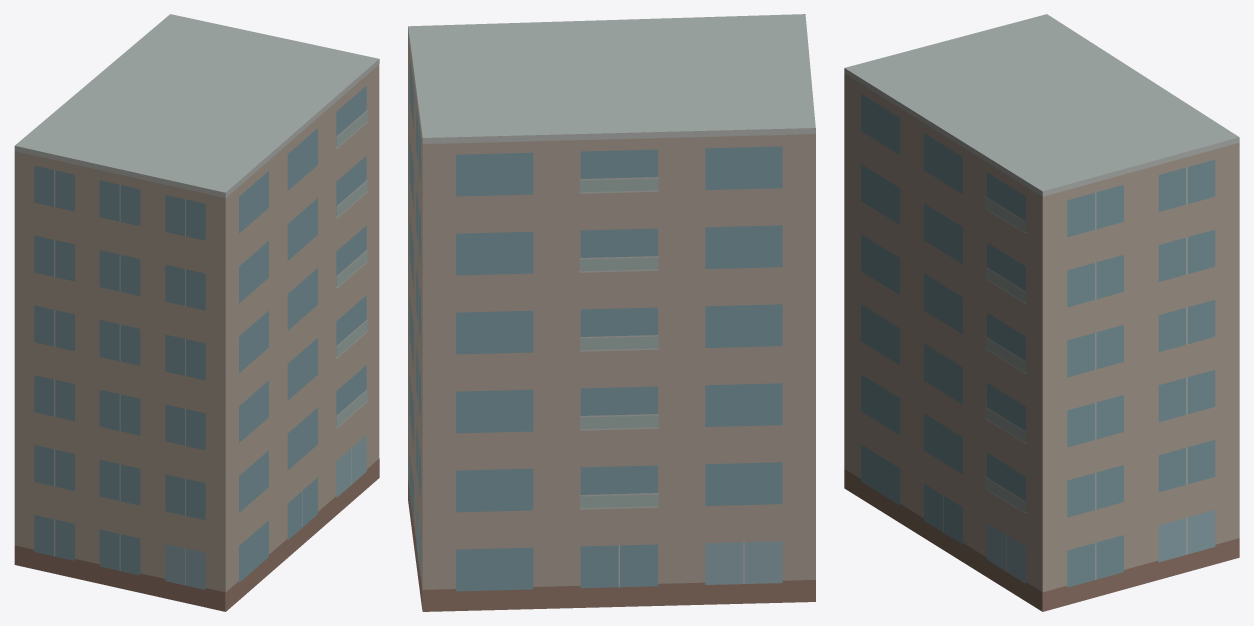
The model's file is survey-upis-32969147.glb.
3 renders of one model, left to right at view 1: azimuth 30°, elevation 25°; view 2: azimuth 150°, elevation 25°; view 3: azimuth 270°, elevation 25°, orthographic. The views are drawn at different scales.
Parts seen in each view (by area): view 1: survey-upis-32969147.tmp; view 2: survey-upis-32969147.tmp; view 3: survey-upis-32969147.tmp.
Boxes of the visible parts, x1,y1,x2,y2 form: survey-upis-32969147.tmp: (14, 14, 379, 611); survey-upis-32969147.tmp: (408, 14, 815, 611); survey-upis-32969147.tmp: (844, 14, 1239, 611).
Bounding box in the file's own units: 17.31 × 19.1 × 16.29.
